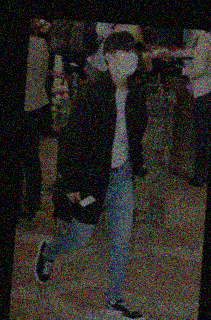with_mask: (115, 48, 139, 78)
